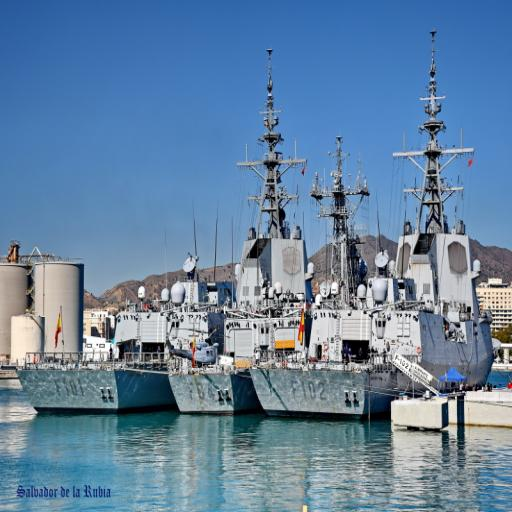Fragata: (244, 19, 494, 416), (154, 37, 284, 412), (14, 220, 174, 419)
